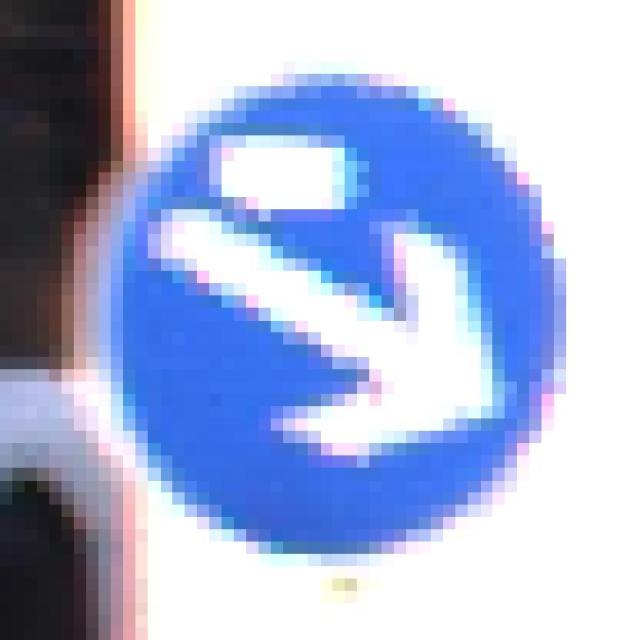Keep-Right: (49, 49, 591, 554)
